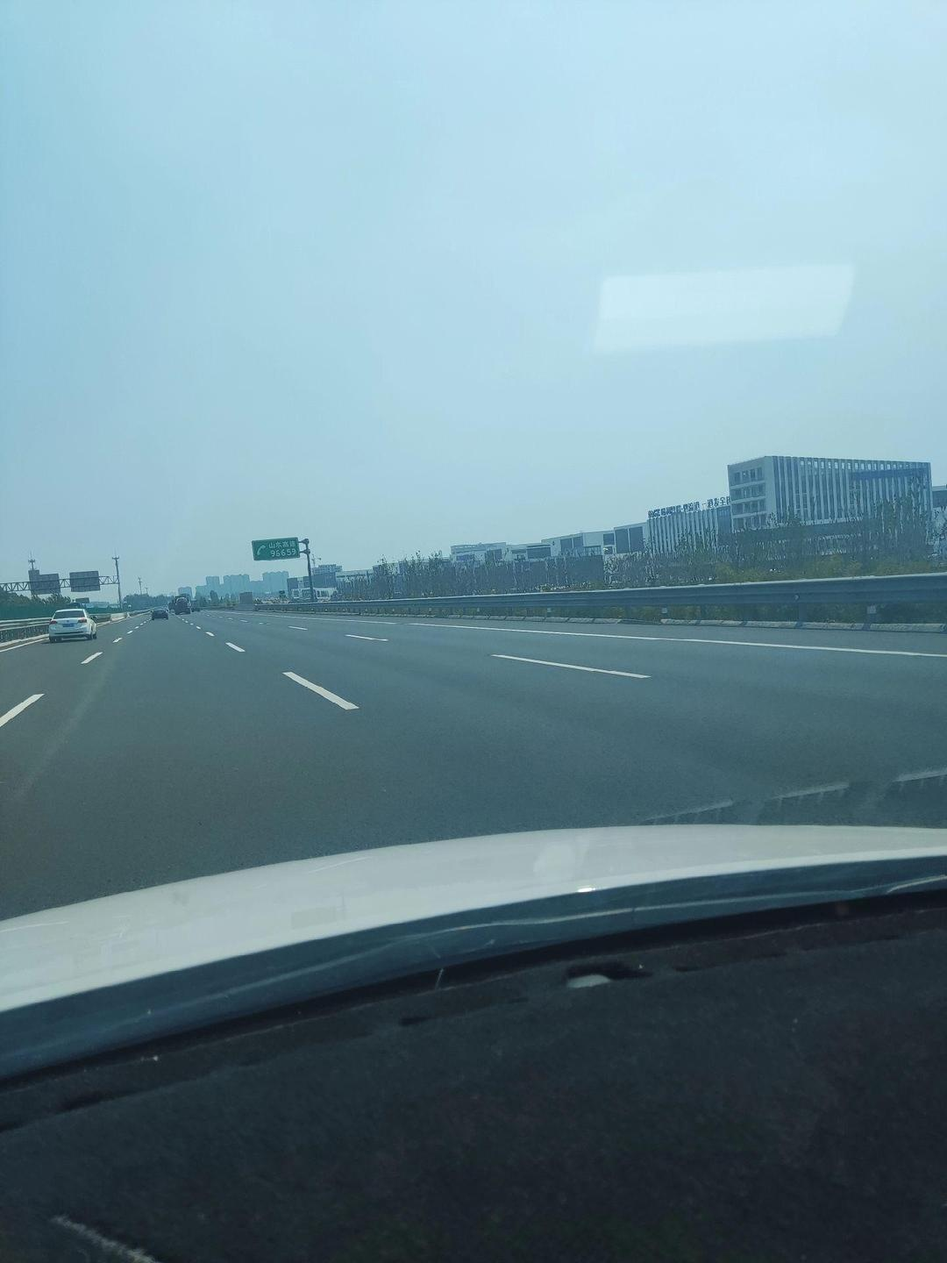lane: (401, 619, 947, 663), (488, 648, 649, 678), (267, 667, 363, 709), (174, 616, 248, 654), (205, 612, 309, 632), (1, 685, 44, 727), (318, 612, 393, 627), (112, 620, 153, 644), (344, 630, 395, 646), (76, 645, 105, 671)
